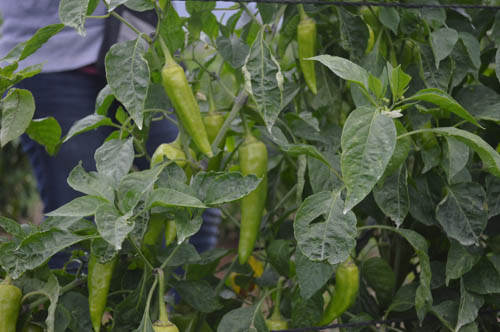ChiliPepper: (134, 145, 190, 255), (235, 144, 272, 267), (162, 69, 211, 154), (321, 267, 358, 327), (87, 253, 113, 327), (296, 21, 316, 92), (2, 286, 24, 328)
